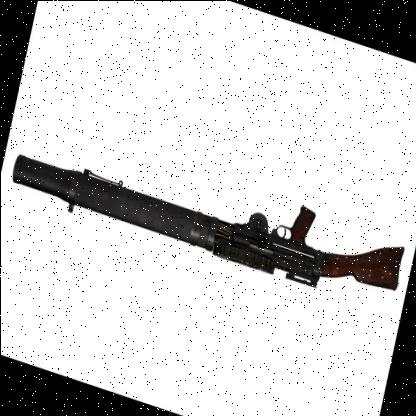rifle: (2, 103, 412, 316)
